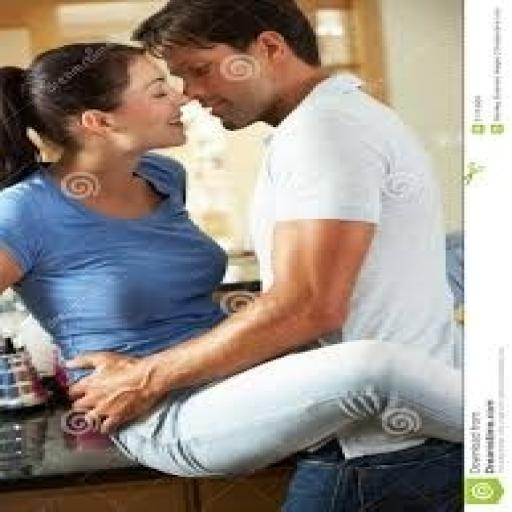hugging: (61, 0, 462, 510), (0, 39, 233, 398)
